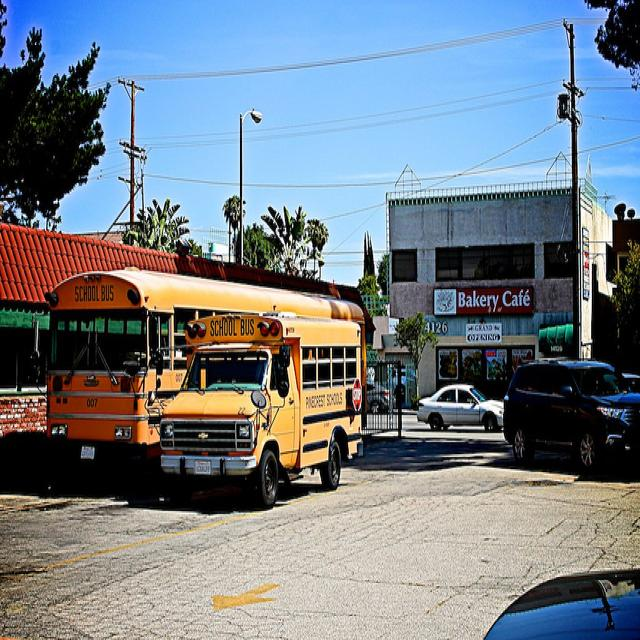Vehicle: (47, 265, 366, 446), (160, 318, 365, 506), (503, 358, 640, 474), (502, 360, 640, 474), (489, 564, 640, 630), (418, 384, 504, 434)
